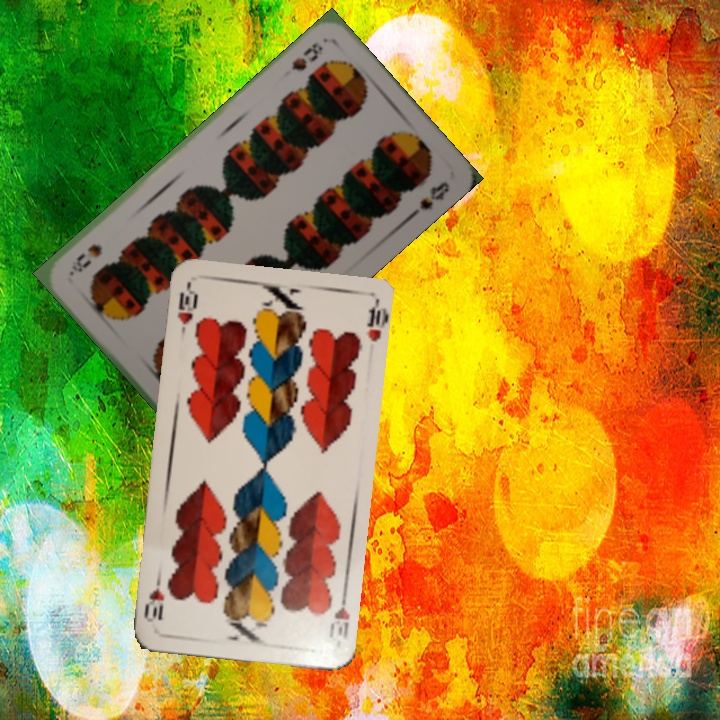H10: (173, 280, 200, 339), (325, 589, 352, 641)
S8: (287, 38, 326, 73)
